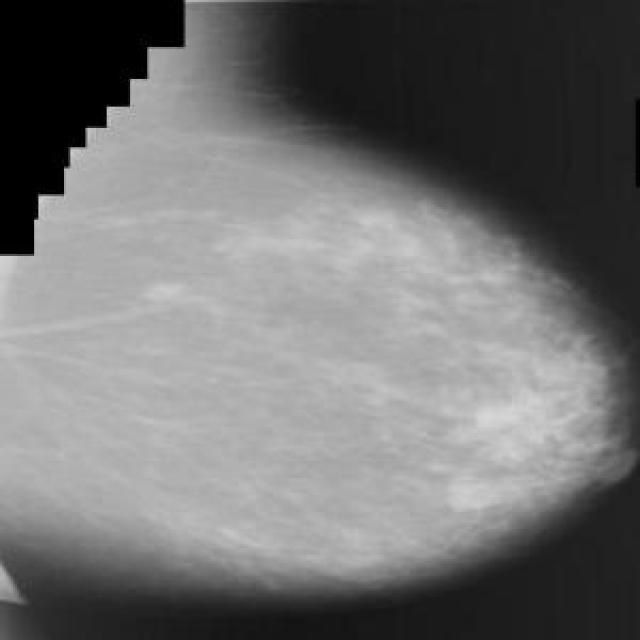tumor: (449, 334, 618, 516)
